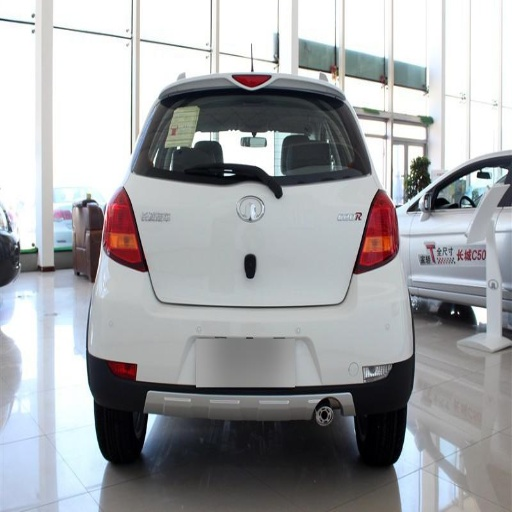back_bumper: (84, 256, 411, 420)
tailgate: (128, 185, 216, 303), (301, 189, 370, 303)
trunk: (129, 180, 376, 304)
